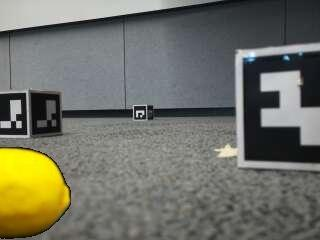lemon: (0, 148, 68, 237)
